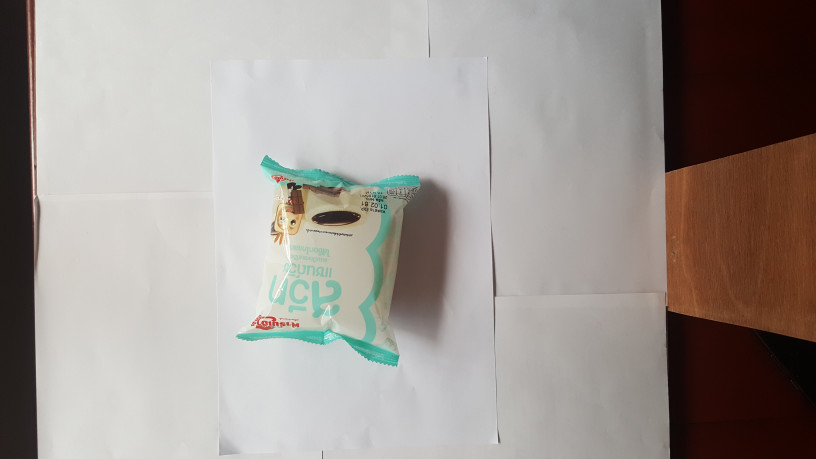farmhouse-sweetsandwich-chocolate: (231, 153, 423, 369)
